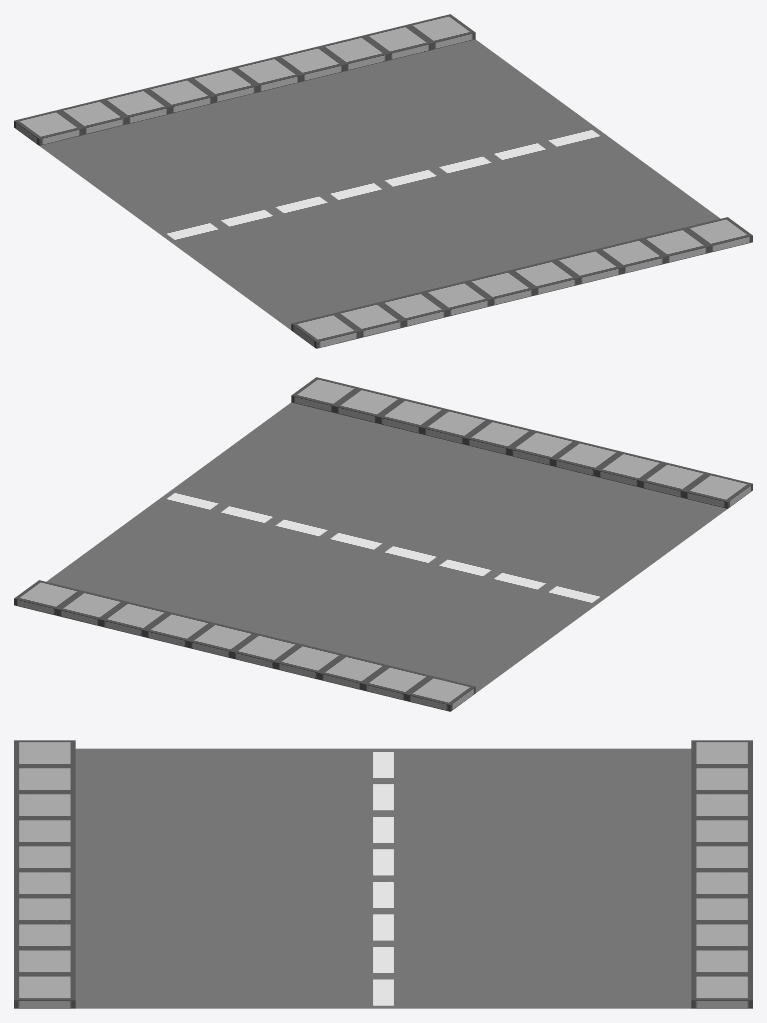
Rendered from road_straight.fbx.
3 renders of one model, top to bottom at view 1: azimuth 30°, elevation 25°; view 2: azimuth 150°, elevation 25°; view 3: azimuth 270°, elevation 25°, orthographic. The views are drawn at different scales.
Parts seen in each view (by area): view 1: street; view 2: street; view 3: street.
Part boxes in pixels (bbox=[...]): street: bbox=[14, 14, 752, 348]; street: bbox=[14, 377, 752, 711]; street: bbox=[14, 740, 752, 1008].
Bounding box in the file's own units: 1000 × 15 × 1200.
1 material, 1 textured.
